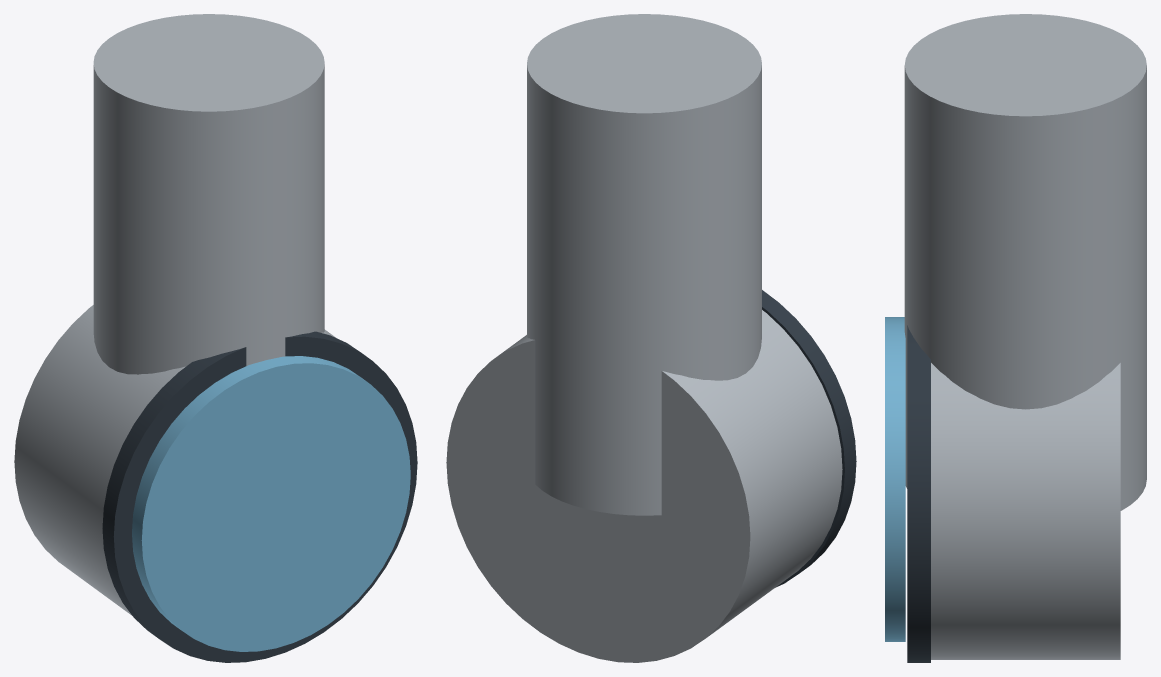
File: wrist_2_link.obj
The picture shows the model from 3 angles, left to right: view 1: azimuth 30°, elevation 25°; view 2: azimuth 150°, elevation 25°; view 3: azimuth 270°, elevation 25°; orthographic projection. The views are drawn at different scales.
Visible parts, largest first — view 1: tool_bridge, wrist_cap, wrist_axis, wrist_ring; view 2: tool_bridge, wrist_axis, wrist_ring; view 3: tool_bridge, wrist_axis, wrist_ring, wrist_cap.
Boxes of the visible parts, <box> form: tool_bridge: <box>93,14,324,374</box>; wrist_cap: <box>132,356,410,651</box>; wrist_axis: <box>14,305,335,615</box>; wrist_ring: <box>102,331,417,662</box>; tool_bridge: <box>527,14,761,515</box>; wrist_axis: <box>446,310,842,662</box>; wrist_ring: <box>762,290,856,587</box>; tool_bridge: <box>904,14,1146,510</box>; wrist_axis: <box>931,363,1120,659</box>; wrist_ring: <box>907,325,930,662</box>; wrist_cap: <box>885,317,905,641</box>.
Size of the model in its own units: 0.124 by 0.2163 by 0.0884.
